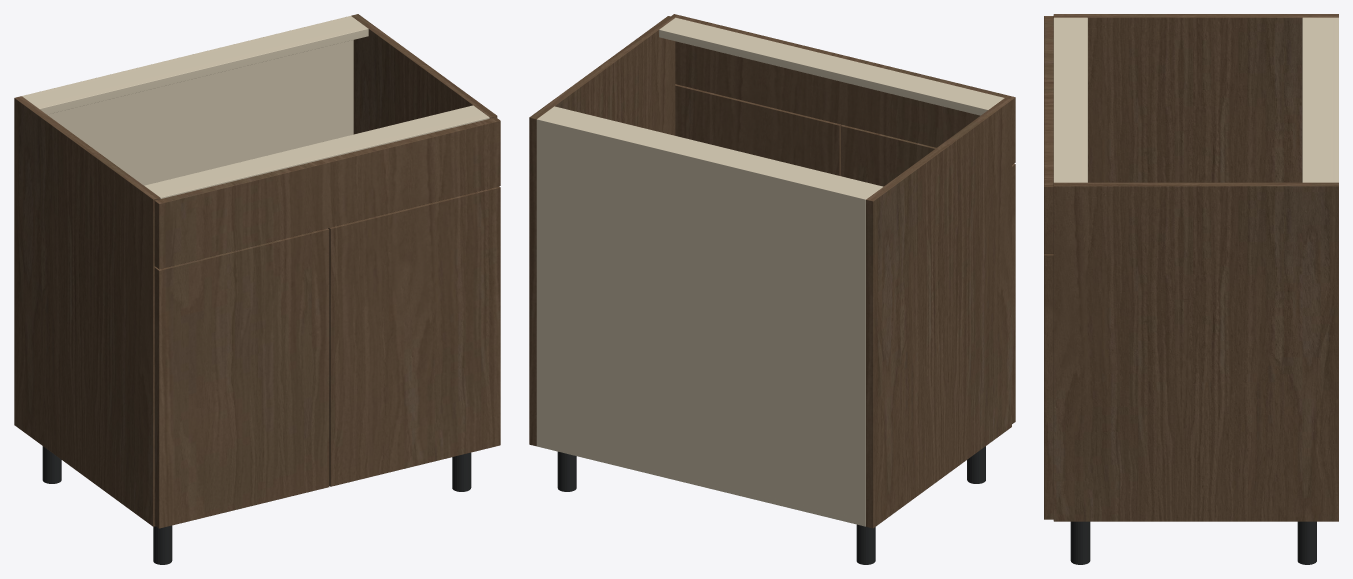
Rendered from oppein-ply-mso-sb33.glb.
The picture shows the model from 3 angles, left to right: view 1: azimuth 30°, elevation 25°; view 2: azimuth 150°, elevation 25°; view 3: azimuth 270°, elevation 25°; orthographic projection. The views are drawn at different scales.
Visible parts, largest first — view 1: Cabinet side, Door, Door.001, Cabinet back, False drawer front, Cabinet side.001, Top support rail, Top support rail.001, Adjustable foot.001, Adjustable foot.003, Adjustable foot; view 2: Cabinet back, Cabinet side, False drawer front, Cabinet side.001, Door.001, Top support rail.001, Top support rail, Door, Adjustable foot, Adjustable foot.002; view 3: Cabinet side.001, Cabinet side, Top support rail.001, Top support rail, Door.001, False drawer front, Cabinet back, Adjustable foot.003, Adjustable foot.002.
Boxes of the visible parts, x1,y1,x2,y2 form: Cabinet side: (14,96,160,526); Door: (154,228,329,528); Door.001: (328,186,500,486); Cabinet back: (22,16,353,185); False drawer front: (154,117,500,269); Cabinet side.001: (351,14,497,134); Top support rail: (24,17,368,114); Top support rail.001: (144,105,489,198); Adjustable foot.001: (153,525,172,564); Adjustable foot.003: (452,452,471,491); Adjustable foot: (42,446,61,483); Cabinet back: (536,117,867,526); Cabinet side: (866,98,1011,528); False drawer front: (671,14,1015,164); Cabinet side.001: (529,16,675,446); Door.001: (675,84,841,175); Top support rail.001: (659,17,1004,115); Top support rail: (540,106,883,198); Door: (841,125,1015,423); Adjustable foot: (856,524,875,564); Adjustable foot.002: (557,451,576,491); Cabinet side.001: (1053,182,1338,521); Cabinet side: (1053,14,1338,182); Top support rail.001: (1053,17,1087,182); Top support rail: (1302,17,1333,182); Door.001: (1044,254,1053,519); False drawer front: (1044,16,1053,253); Cabinet back: (1333,17,1338,182); Adjustable foot.003: (1070,521,1090,564); Adjustable foot.002: (1297,521,1316,564).
Size of the model in its own units: 0.8382 by 0.8763 by 0.6064.
3 materials, 1 textured.
